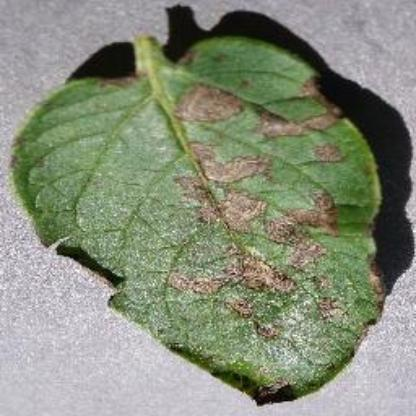Early-Blight: (11, 30, 390, 406)
